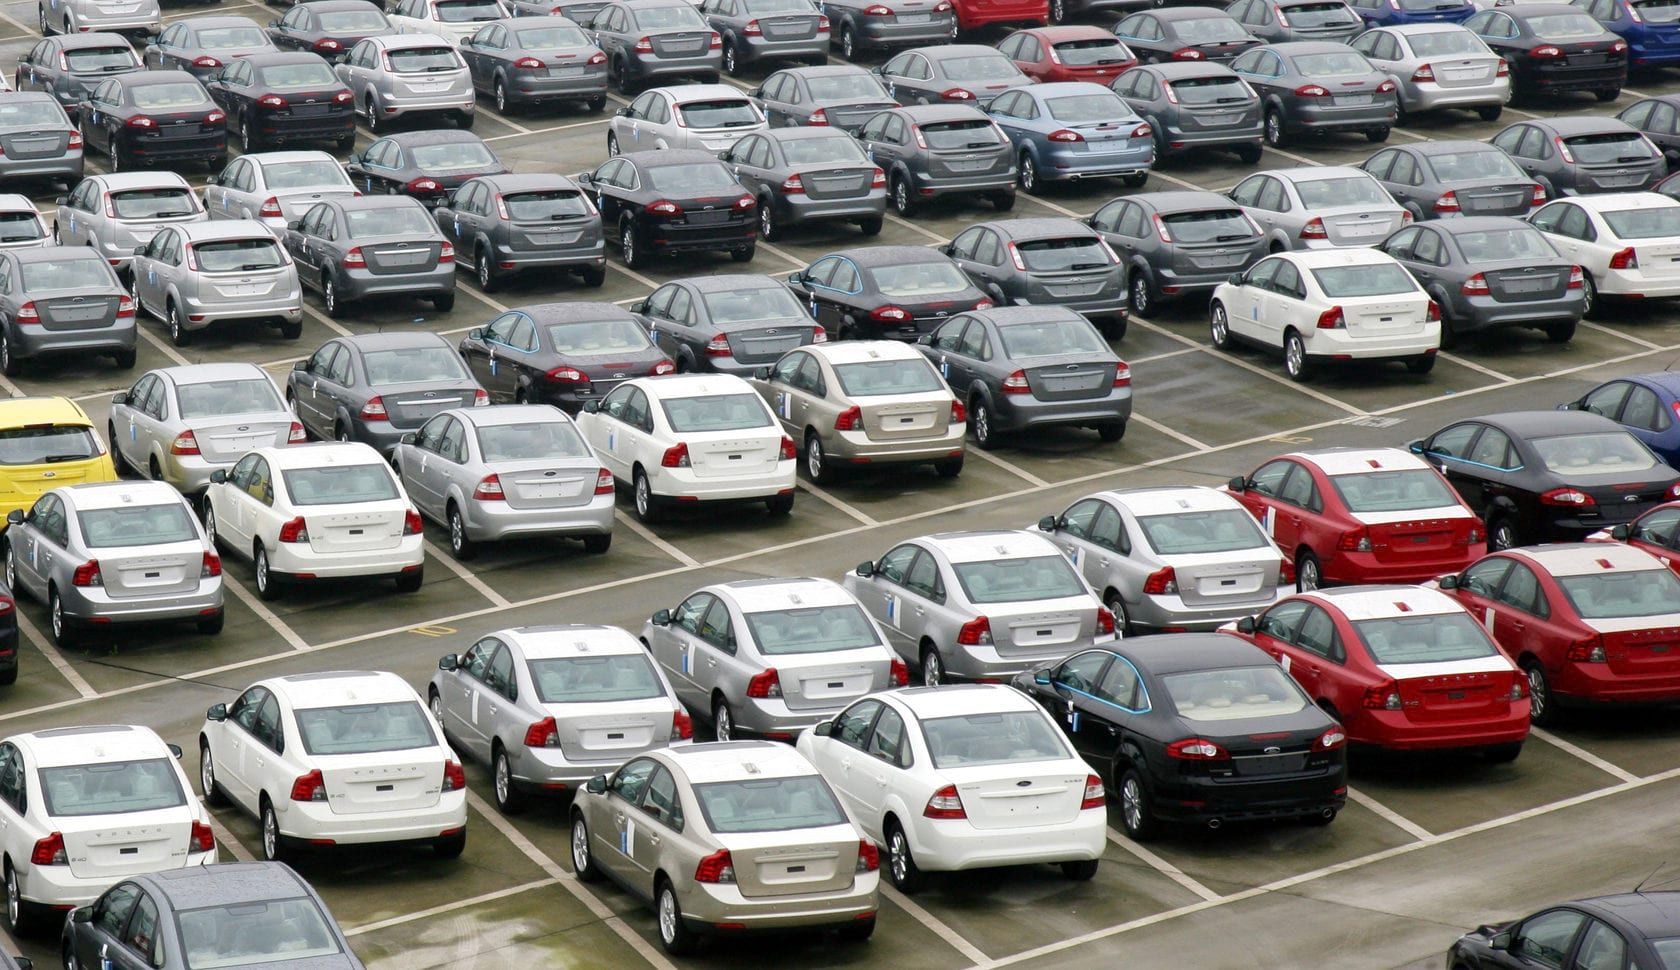Car: (1011, 633, 1347, 840), (570, 741, 880, 953), (797, 684, 1107, 891), (1218, 585, 1532, 763), (197, 671, 468, 860), (427, 625, 694, 813), (1426, 543, 1680, 723), (0, 724, 217, 934), (642, 577, 908, 741), (843, 531, 1117, 685), (1026, 486, 1299, 637), (1216, 448, 1489, 590), (1403, 410, 1680, 549), (5, 480, 225, 646), (202, 441, 425, 599), (393, 403, 617, 559), (576, 373, 799, 523), (62, 861, 365, 970), (751, 339, 966, 483), (1209, 248, 1441, 381), (918, 305, 1132, 447), (1376, 216, 1586, 343), (107, 363, 306, 495), (286, 333, 490, 455), (460, 303, 675, 412), (1082, 191, 1267, 315), (940, 217, 1128, 339), (130, 221, 303, 344), (578, 150, 757, 267), (284, 195, 456, 316), (432, 173, 606, 291), (633, 274, 827, 376), (1444, 888, 1680, 970), (787, 246, 991, 341), (1528, 191, 1680, 313), (720, 127, 887, 239), (852, 104, 1017, 215), (988, 82, 1155, 192), (1229, 42, 1398, 145), (0, 246, 137, 374), (0, 396, 117, 536), (1464, 3, 1628, 100), (1351, 23, 1511, 121), (1110, 61, 1264, 163), (53, 171, 207, 273), (1229, 167, 1411, 253), (77, 70, 227, 171), (1362, 141, 1548, 221), (207, 52, 356, 151), (460, 16, 608, 114), (1491, 115, 1668, 197), (336, 33, 475, 130), (204, 150, 361, 236), (582, 0, 722, 94), (346, 129, 507, 208), (1560, 372, 1680, 469), (607, 84, 770, 155), (15, 33, 143, 117), (873, 44, 1039, 105), (749, 65, 899, 130), (699, 0, 830, 75), (143, 16, 277, 82), (1112, 7, 1259, 64), (813, 0, 951, 59), (266, 0, 394, 64), (1567, 0, 1680, 72), (995, 27, 1138, 83), (0, 92, 84, 186), (1585, 500, 1680, 573), (384, 0, 513, 46), (1226, 0, 1365, 42), (1616, 94, 1680, 171), (38, 0, 160, 38), (950, 0, 1050, 40), (502, 0, 629, 27), (1349, 0, 1474, 27), (0, 192, 54, 249), (1050, 0, 1156, 24), (0, 582, 20, 689), (0, 937, 33, 970), (1652, 171, 1680, 201), (159, 0, 221, 10), (1156, 0, 1229, 7), (0, 69, 13, 92), (264, 0, 311, 6), (368, 0, 384, 10)
